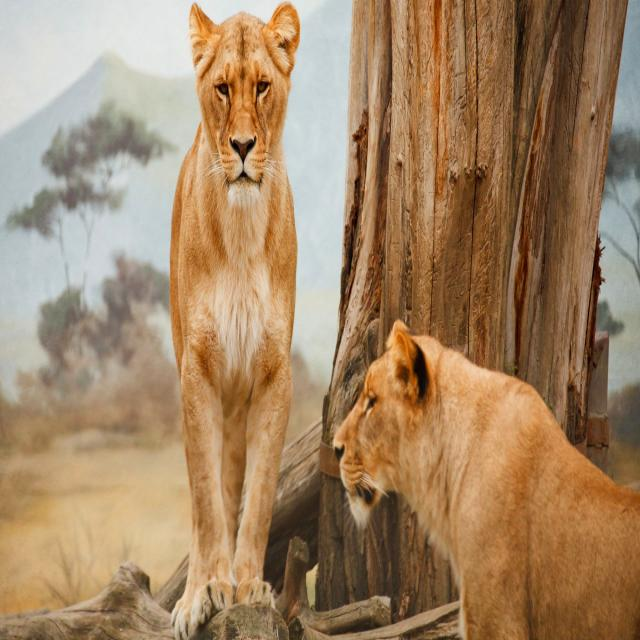lion: (332, 320, 640, 639), (170, 3, 300, 639)
